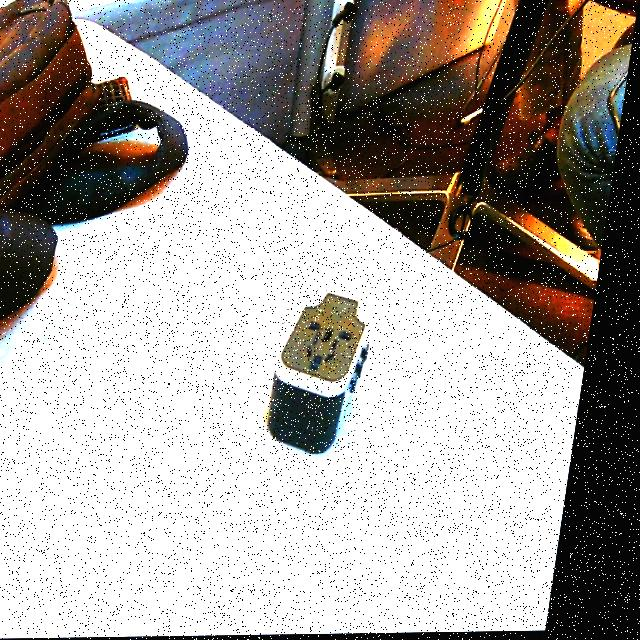adapter: (273, 288, 387, 455)
